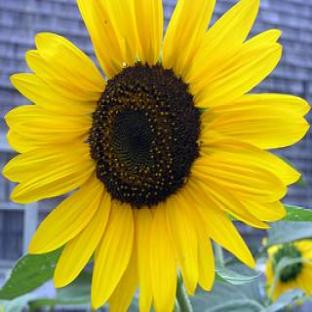sunflower: (2, 0, 311, 312)
